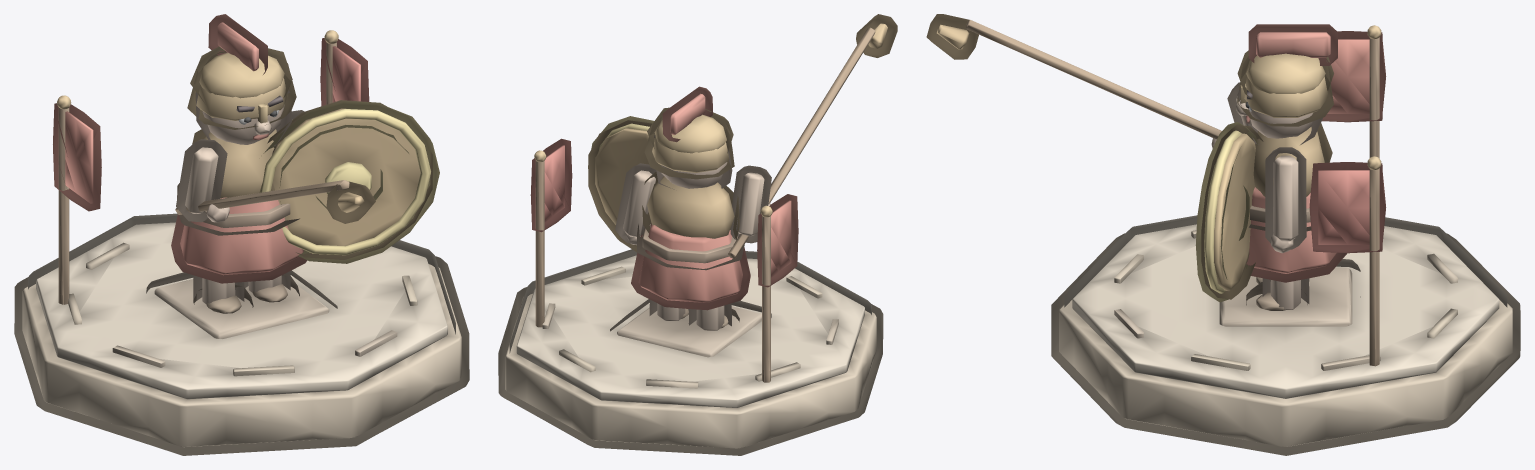
File: spear_guard.glb
3 renders of one model, left to right at view 1: azimuth 30°, elevation 25°; view 2: azimuth 150°, elevation 25°; view 3: azimuth 270°, elevation 25°, orthographic. The views are drawn at different scales.
Parts seen in each view (by area): view 1: M_SpearGuard, M_Body.001, M_SpearGuard_Outline, M_Body.001_Outline, M_Arm.001, M_Arm.001_Outline; view 2: M_SpearGuard, M_Body.001, M_SpearGuard_Outline, M_Body.001_Outline, M_Arm.001, M_Arm.001_Outline; view 3: M_SpearGuard, M_Body.001, M_SpearGuard_Outline, M_Body.001_Outline, M_Arm.001, M_Arm.001_Outline.
Boxes of the visible parts, <box> form: M_SpearGuard: <box>22,30,461,447</box>; M_Body.001: <box>180,22,430,313</box>; M_SpearGuard_Outline: <box>14,38,469,455</box>; M_Body.001_Outline: <box>171,14,439,307</box>; M_Arm.001: <box>175,147,364,222</box>; M_Arm.001_Outline: <box>176,139,375,223</box>; M_SpearGuard: <box>505,145,876,448</box>; M_Body.001: <box>595,93,742,330</box>; M_SpearGuard_Outline: <box>498,138,883,455</box>; M_Body.001_Outline: <box>588,86,750,326</box>; M_Arm.001: <box>728,23,887,258</box>; M_Arm.001_Outline: <box>730,14,897,243</box>; M_SpearGuard: <box>1059,25,1512,446</box>; M_Body.001: <box>1204,32,1337,310</box>; M_SpearGuard_Outline: <box>1051,31,1520,455</box>; M_Body.001_Outline: <box>1195,24,1346,305</box>; M_Arm.001: <box>937,20,1247,148</box>; M_Arm.001_Outline: <box>926,14,1243,124</box>.
Bounding box in the file's own units: 3.18 × 2.5 × 4.03.
